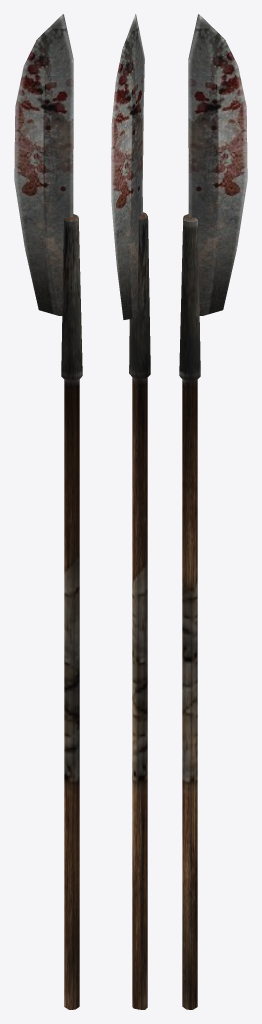
Rendered from weapons_longw05.glb.
The picture shows the model from 3 angles, left to right: view 1: azimuth 90°, elevation 25°; view 2: azimuth 150°, elevation 25°; view 3: azimuth 270°, elevation 25°; orthographic projection.
Visible parts, largest first — view 1: longw05; view 2: longw05; view 3: longw05.
Boxes of the visible parts, x1=… form: longw05: x1=14, y1=14, x2=82, y2=1009; longw05: x1=111, y1=14, x2=150, y2=1009; longw05: x1=179, y1=14, x2=247, y2=1009.
Bounding box in the file's own units: 0.0371 × 1.95 × 0.1216.
1 material, 1 textured.
